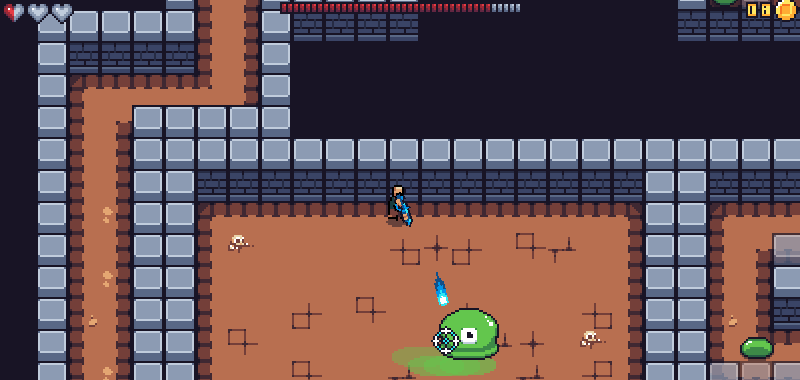enemy_slug: (739, 336, 775, 359)
enemy_slug_boss: (420, 289, 514, 370)
